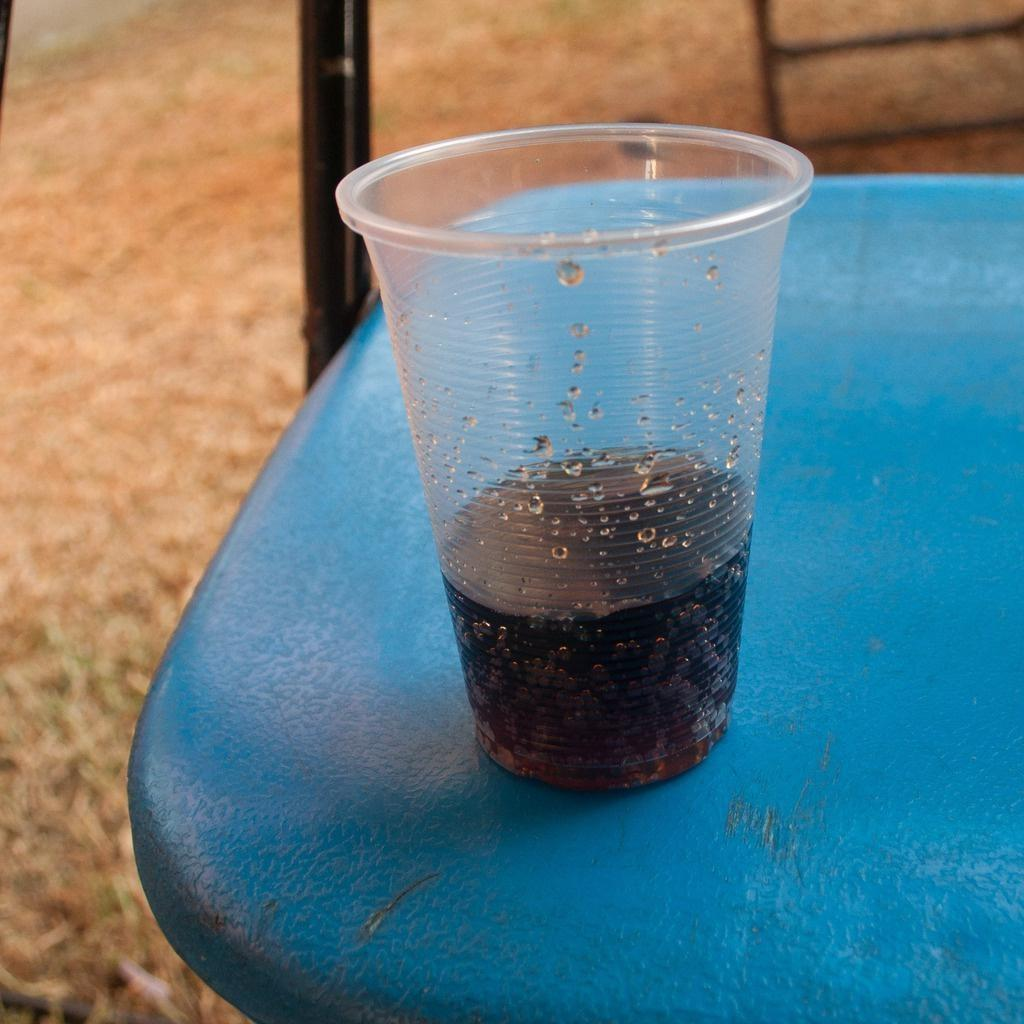cup-disposable: (334, 119, 818, 801)
